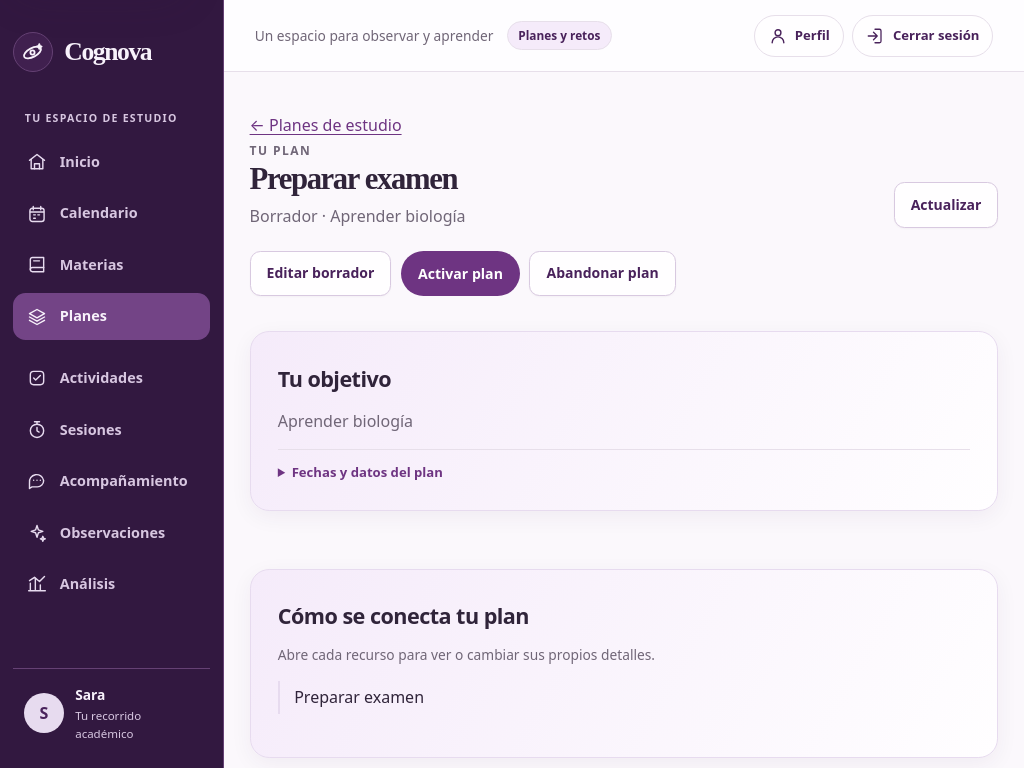
Test case: study plans › edits a draft and retains links to existing resources
Check: the heading "Preparar examen" is shown, box [250,162,457,196]
Click the button "Editar borrador" at (320, 274), box [250,252,391,296]
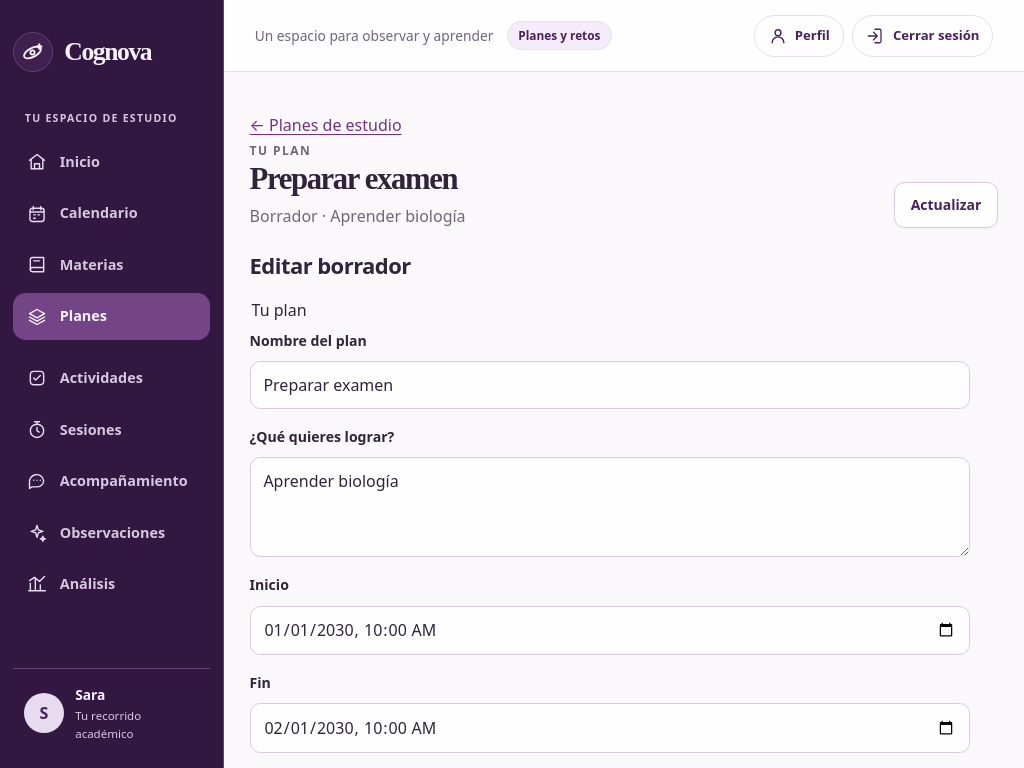
Replace the text in the field labelled "Nombre del plan" with "Examen final" at (610, 385), box [250,361,970,409]
(page scrolled)
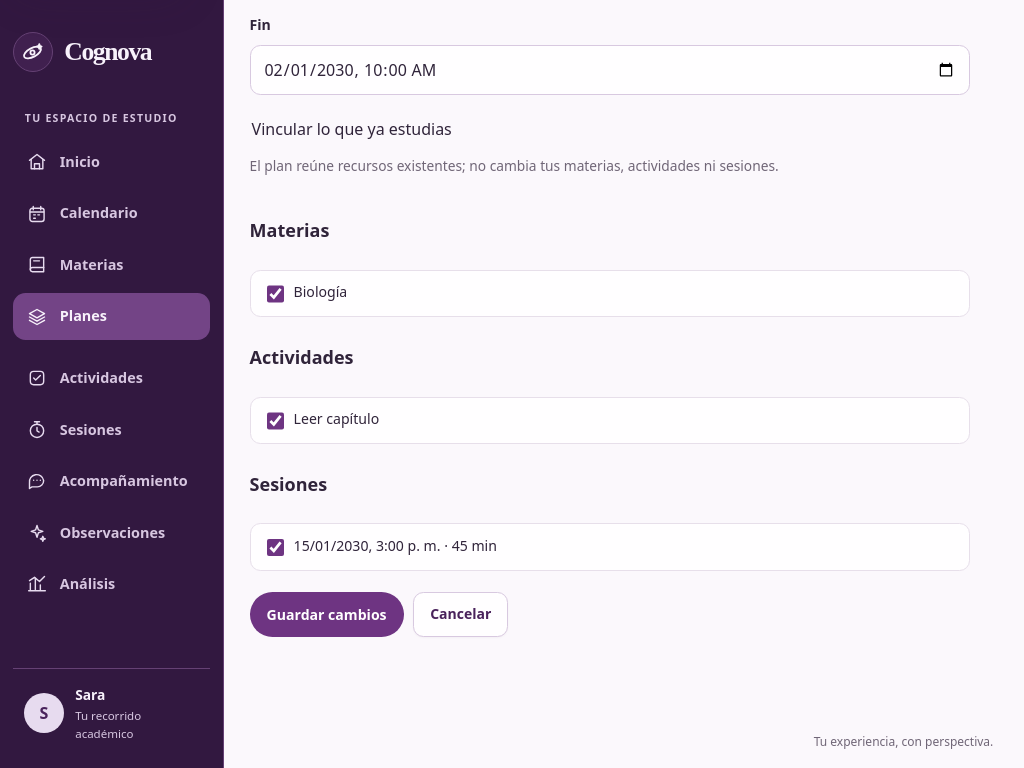
Click the button "Guardar cambios" at (327, 615), box [250,592,404,637]
(page scrolled)
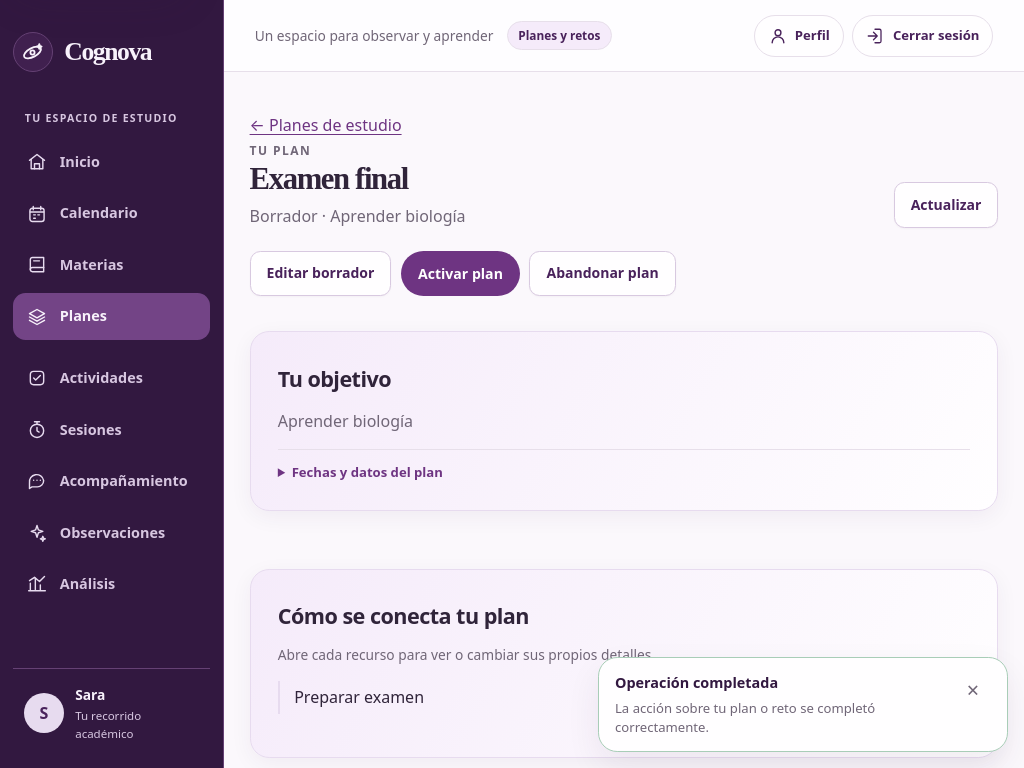
Check: the heading "Examen final" is shown, box [250,162,408,196]
